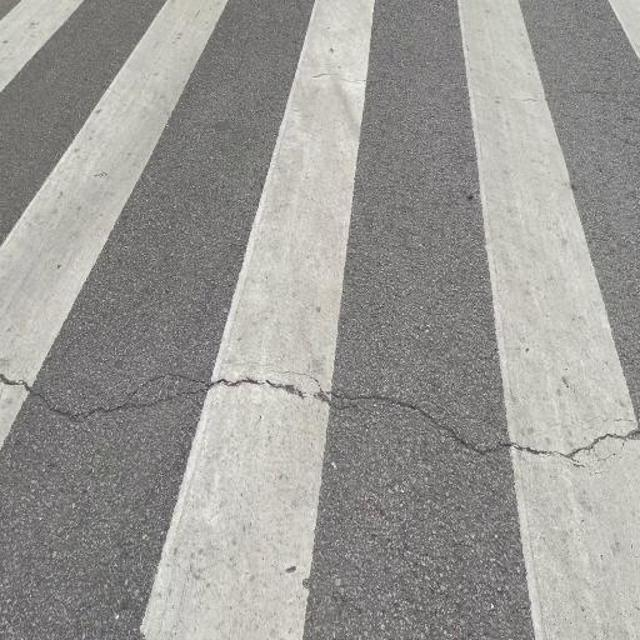Melintang: (0, 354, 640, 476)
